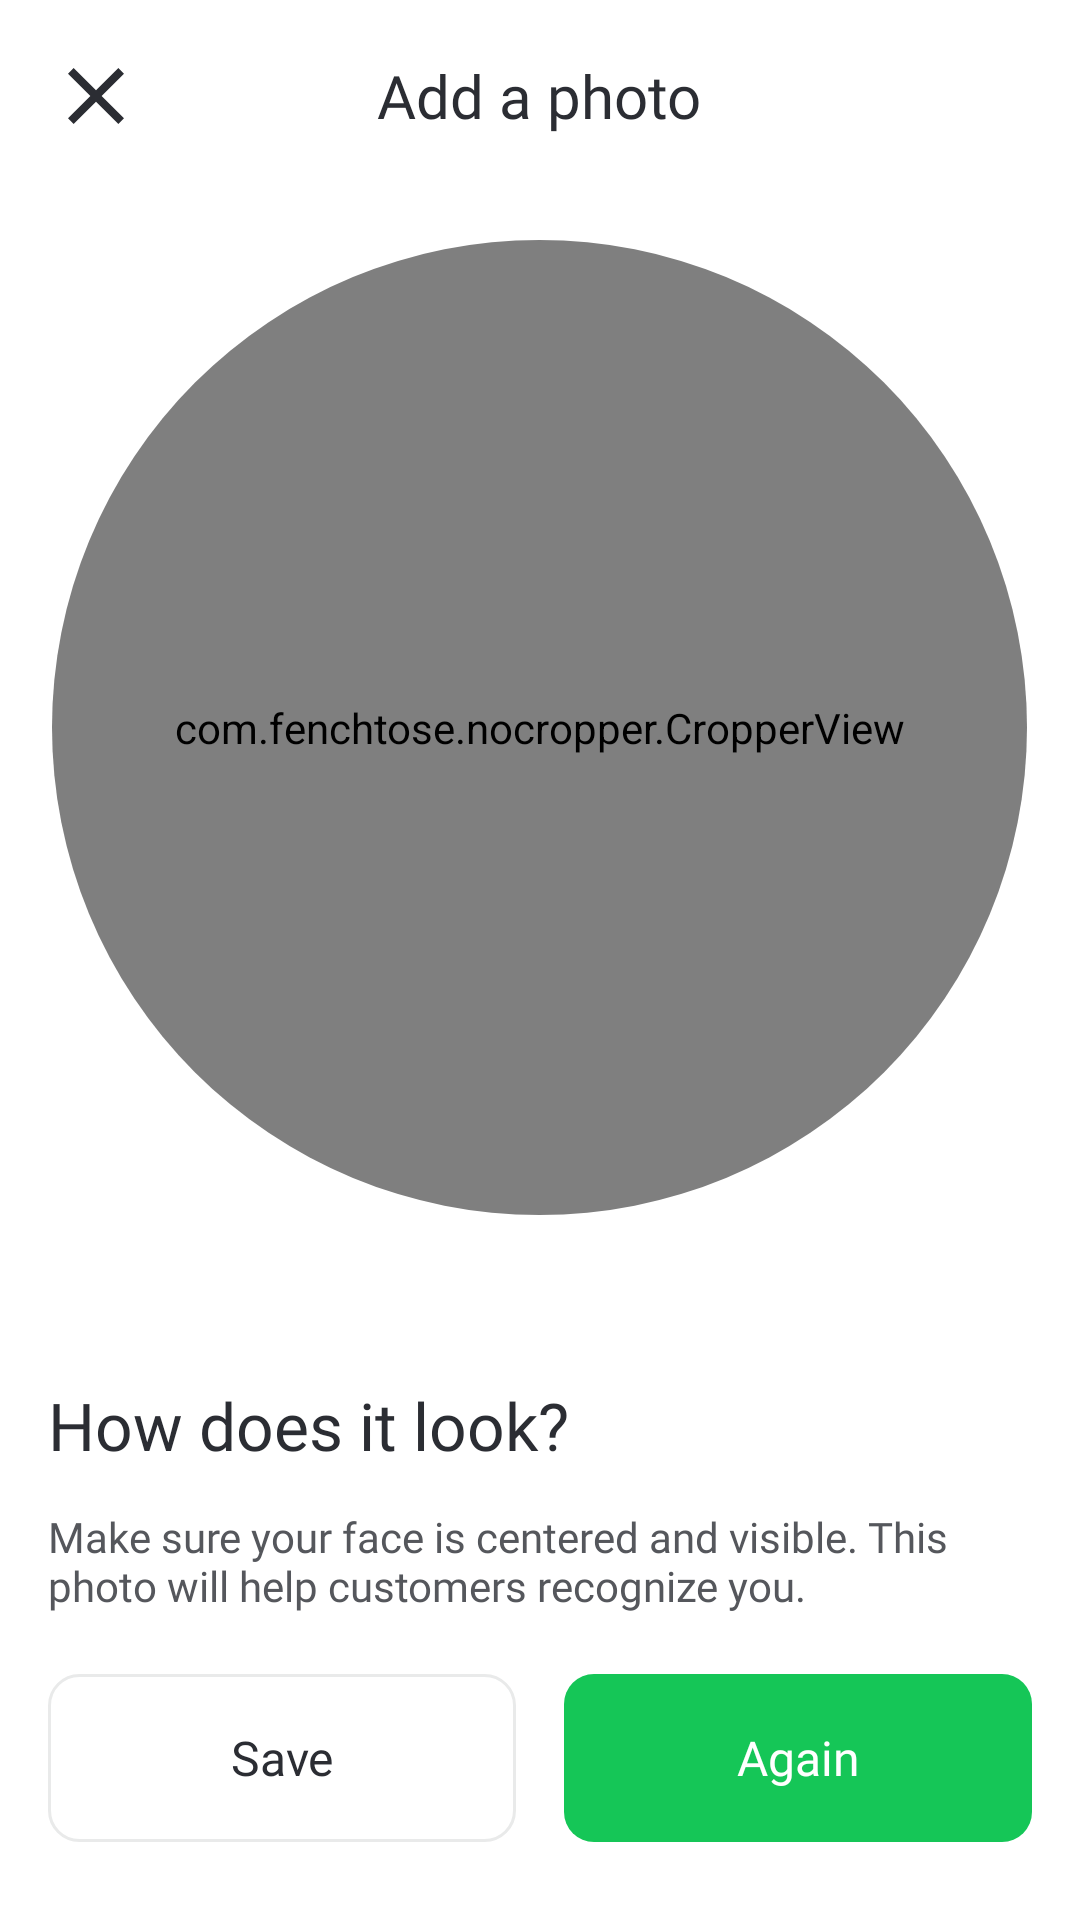

Icons on this 1080x1920 Android screen, each with its box as (x1, y1, x2, y2):
close: (68, 68, 124, 124)
